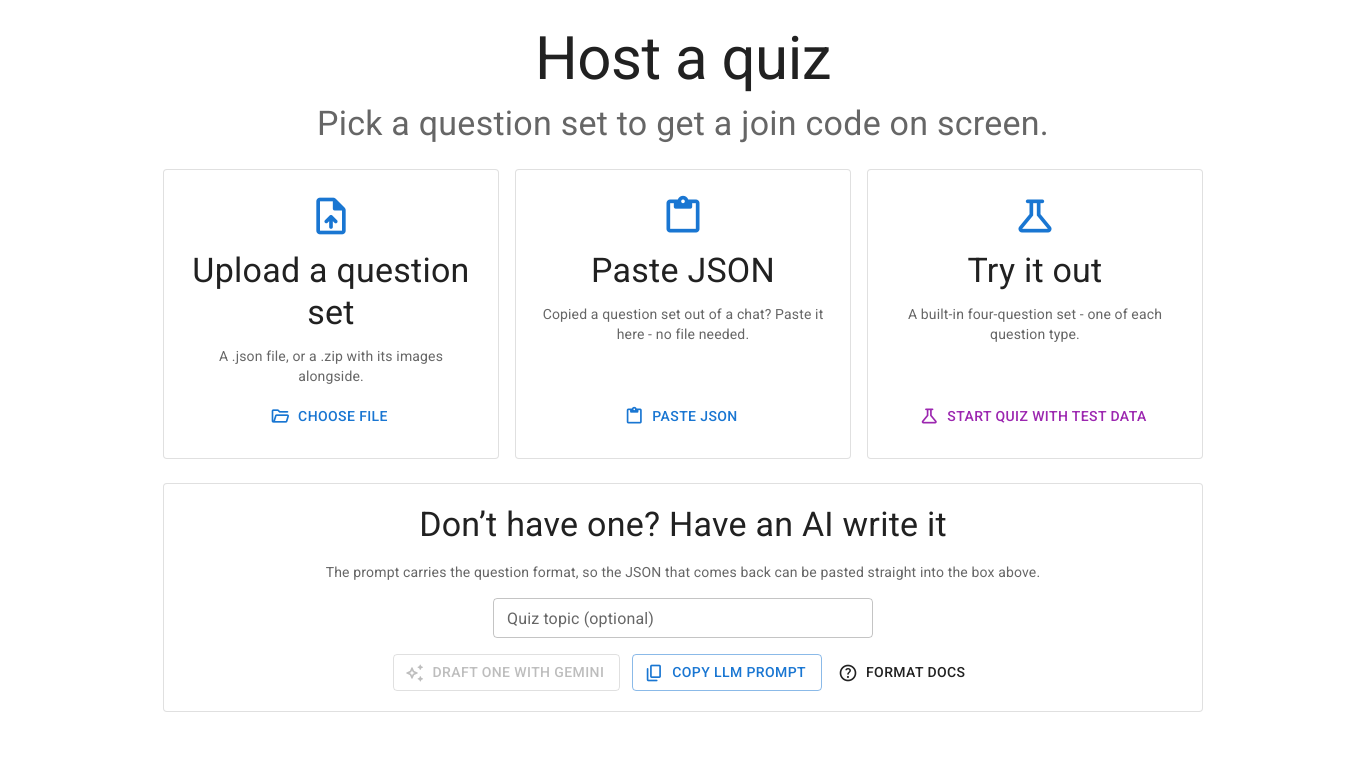
AdminView › shows an error if attaching the question set fails
What coordinates should you click on to do the following:
click the button "Start quiz with test data"
I would click on:
 (1035, 416)
Its box is [915,398,1155,434].
(page scrolled)
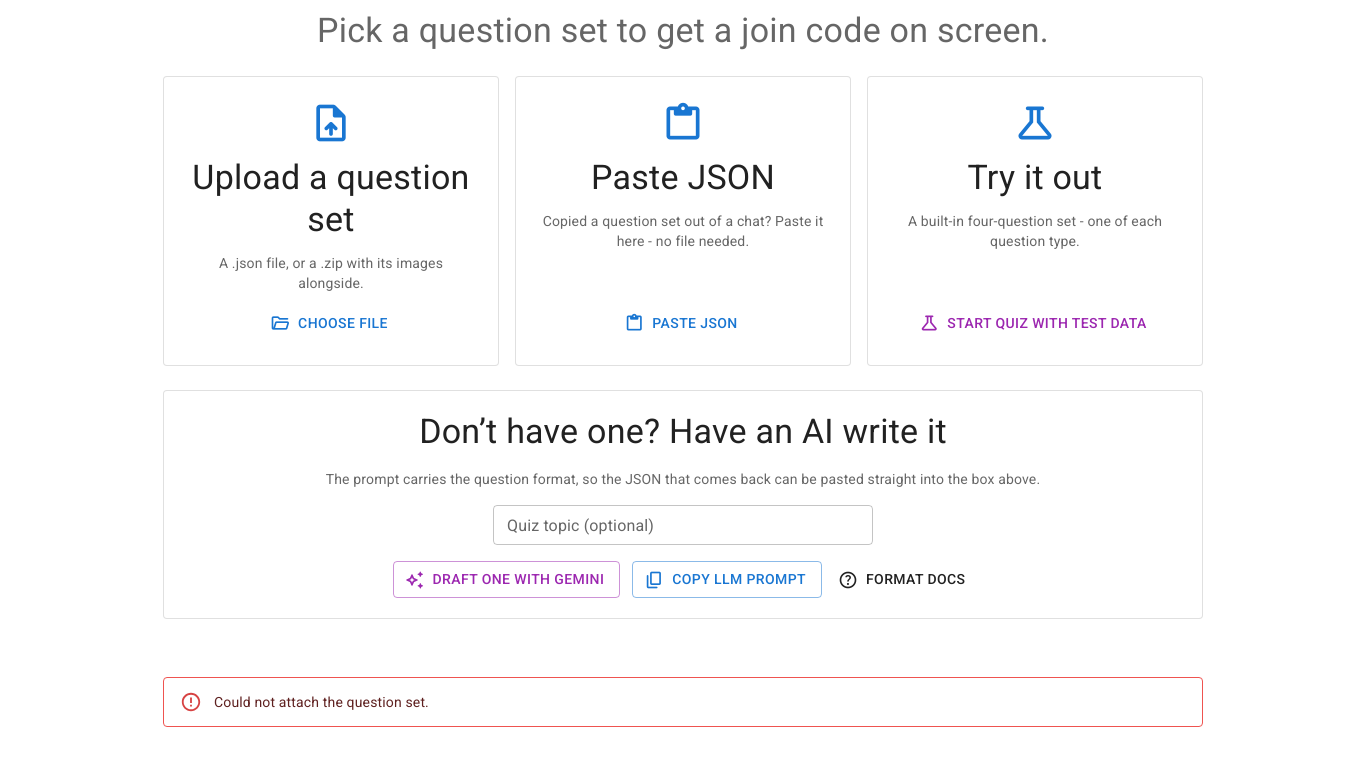
Expected: the text "Could not attach the question set." is shown, [214,694,429,710]
